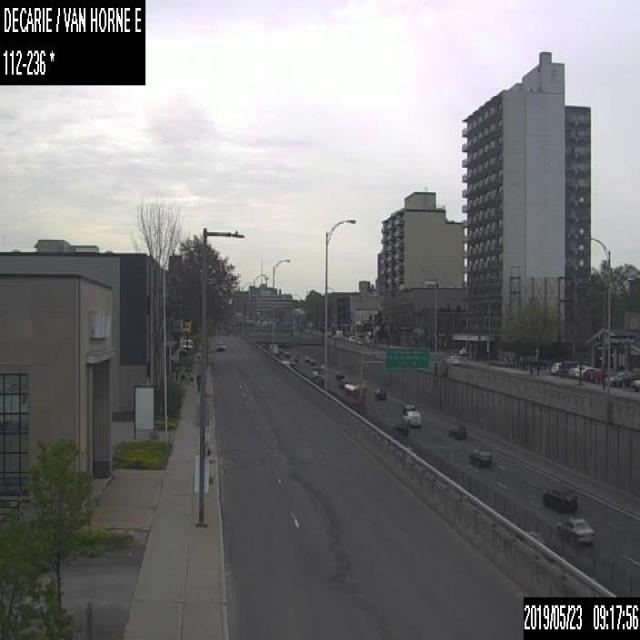bus: (341, 382, 365, 406)
vehicle: (555, 516, 593, 542), (542, 488, 577, 511), (470, 448, 491, 468), (613, 371, 639, 387), (402, 410, 420, 426), (391, 421, 407, 438), (448, 425, 465, 440), (574, 366, 595, 378), (567, 364, 586, 376), (589, 368, 604, 383), (374, 387, 386, 400), (401, 403, 414, 412), (182, 338, 192, 349), (551, 362, 561, 372), (334, 370, 344, 380), (631, 378, 639, 390), (334, 329, 342, 340), (447, 355, 458, 363), (216, 339, 224, 349), (348, 336, 354, 341)
